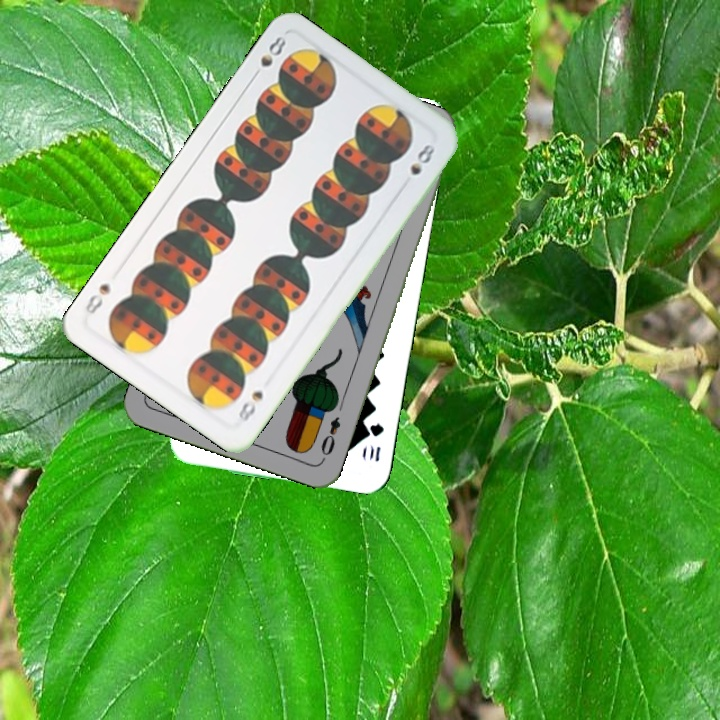EO: (317, 412, 343, 463)
G10: (365, 419, 386, 464)
S8: (247, 32, 289, 83), (234, 386, 266, 428)
